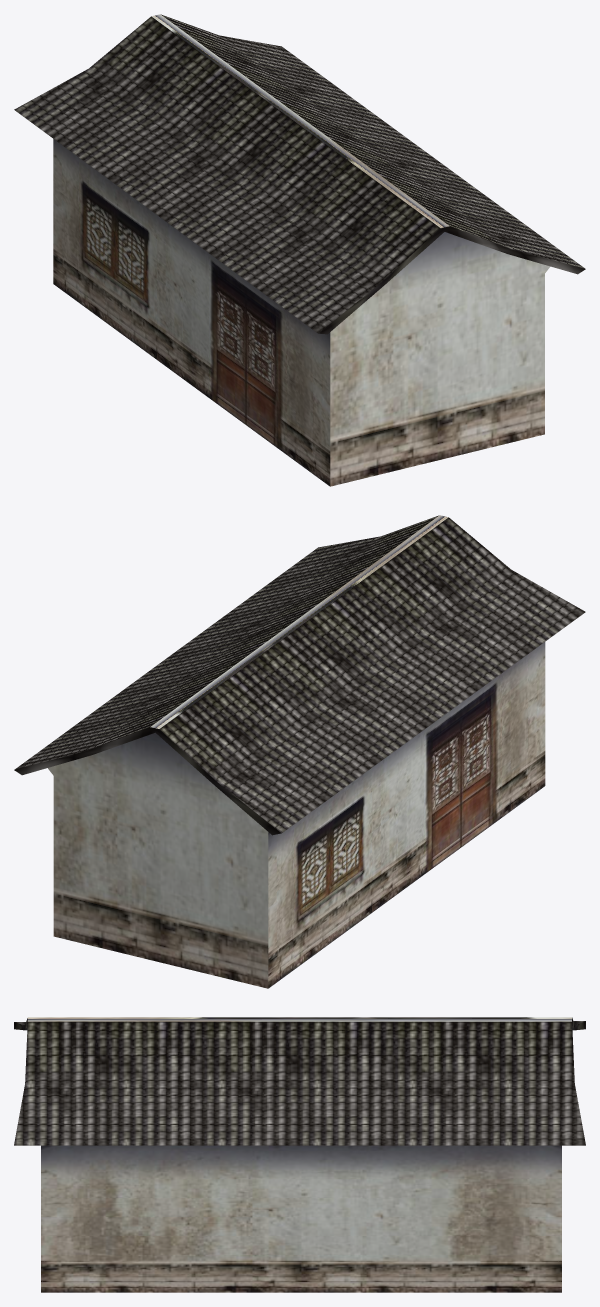
The model's file is ian1600.obj.
3 renders of one model, top to bottom at view 1: azimuth 30°, elevation 25°; view 2: azimuth 150°, elevation 25°; view 3: azimuth 270°, elevation 25°, orthographic. The views are drawn at different scales.
Visible parts, largest first — view 1: ian1600; view 2: ian1600; view 3: ian1600.
Part boxes in pixels (left/top/right/bottom): ian1600: left=14, top=14, right=585, bottom=486; ian1600: left=14, top=515, right=585, bottom=988; ian1600: left=14, top=1017, right=585, bottom=1292.
Size of the model in its own units: 117 by 99.21 by 229.
